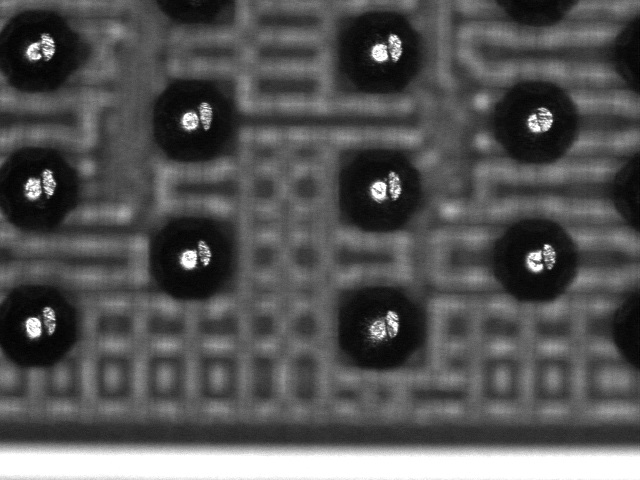shift: (142, 211, 247, 303), (326, 282, 431, 374), (482, 214, 587, 306), (483, 77, 588, 169), (331, 7, 436, 99), (327, 143, 432, 235), (1, 143, 89, 236), (1, 278, 89, 371), (1, 7, 91, 96)
